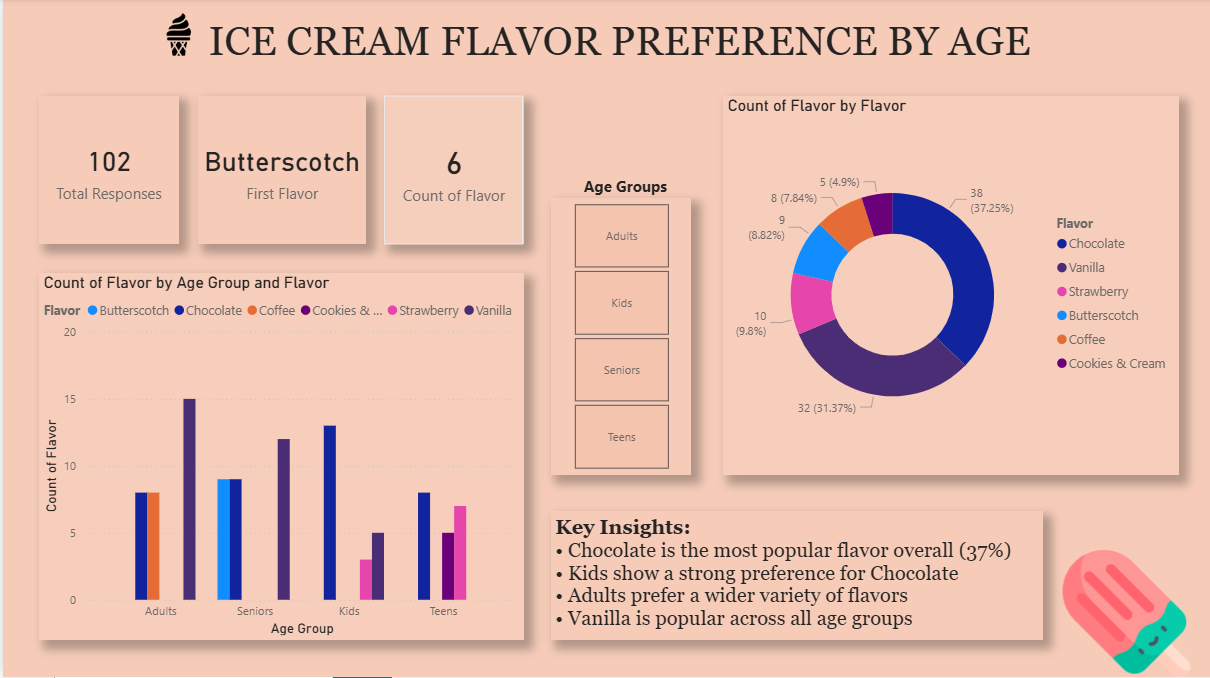

The dashboard page shown, as its layout file describes it:
{"tool":"powerbi","page":{"name":"icecreamPreference ByAge","canvas":[1280,720],"ordinal":0},"visuals":[{"type":"clusteredColumnChart","fields":{"Category":["ice_cream_db ice_cream_age_flavor.Age Group"],"Y":["CountNonNull(ice_cream_db ice_cream_age_flavor.Flavor)"],"Series":["ice_cream_db ice_cream_age_flavor.Flavor"]},"box":[38.2,291.1,513.8,389.7],"z":0},{"type":"donutChart","fields":{"Category":["ice_cream_db ice_cream_age_flavor.Flavor"],"Y":["CountNonNull(ice_cream_db ice_cream_age_flavor.Flavor)"]},"box":[763.5,103.4,483.5,402.4],"z":1000},{"type":"slicer","fields":{"Values":["ice_cream_db ice_cream_age_flavor.Age Group"]},"box":[580.6,211.6,149.5,294.3],"z":2000},{"type":"image","box":[1102.3,585.3,178.1,135.2],"z":3000},{"type":"textbox","box":[213.1,15.9,916.2,70],"z":4000},{"type":"textbox","box":[610.8,182.9,119.3,35],"z":5000},{"type":"card","fields":{"Values":["Count(ice_cream_db ice_cream_age_flavor.Flavor)"]},"box":[404,103.4,147.9,157.5],"z":5001},{"type":"card","fields":{"Values":["ice_cream_db ice_cream_age_flavor.Total Responses"]},"box":[38.2,103.4,147.9,157.5],"z":5002},{"type":"card","fields":{"Values":["Min(ice_cream_db ice_cream_age_flavor.Flavor)"]},"box":[206.8,103.4,178.1,157.5],"z":5003},{"type":"image","box":[111.3,15.9,149.5,46.1],"z":5004},{"type":"textbox","box":[580.6,544,521.7,136.8],"z":5005}]}

Visuals, with their boxes in screenshot pixels (x1, y1, x2, y2), scaled from the page's 1280x720 canvas onto the 1210x678 screenshot:
clusteredColumnChart - ice_cream_db ice_cream_age_flavor.Age Group x CountNonNull(ice_cream_db ice_cream_age_flavor.Flavor): <bbox>36, 274, 522, 641</bbox>
donutChart - ice_cream_db ice_cream_age_flavor.Flavor x CountNonNull(ice_cream_db ice_cream_age_flavor.Flavor): <bbox>722, 97, 1179, 476</bbox>
slicer - ice_cream_db ice_cream_age_flavor.Age Group: <bbox>549, 199, 690, 476</bbox>
image: <bbox>1042, 551, 1209, 677</bbox>
textbox: <bbox>201, 15, 1068, 81</bbox>
textbox: <bbox>577, 172, 690, 205</bbox>
card - Count(ice_cream_db ice_cream_age_flavor.Flavor): <bbox>382, 97, 522, 246</bbox>
card - ice_cream_db ice_cream_age_flavor.Total Responses: <bbox>36, 97, 176, 246</bbox>
card - Min(ice_cream_db ice_cream_age_flavor.Flavor): <bbox>195, 97, 364, 246</bbox>
image: <bbox>105, 15, 247, 58</bbox>
textbox: <bbox>549, 512, 1042, 641</bbox>
